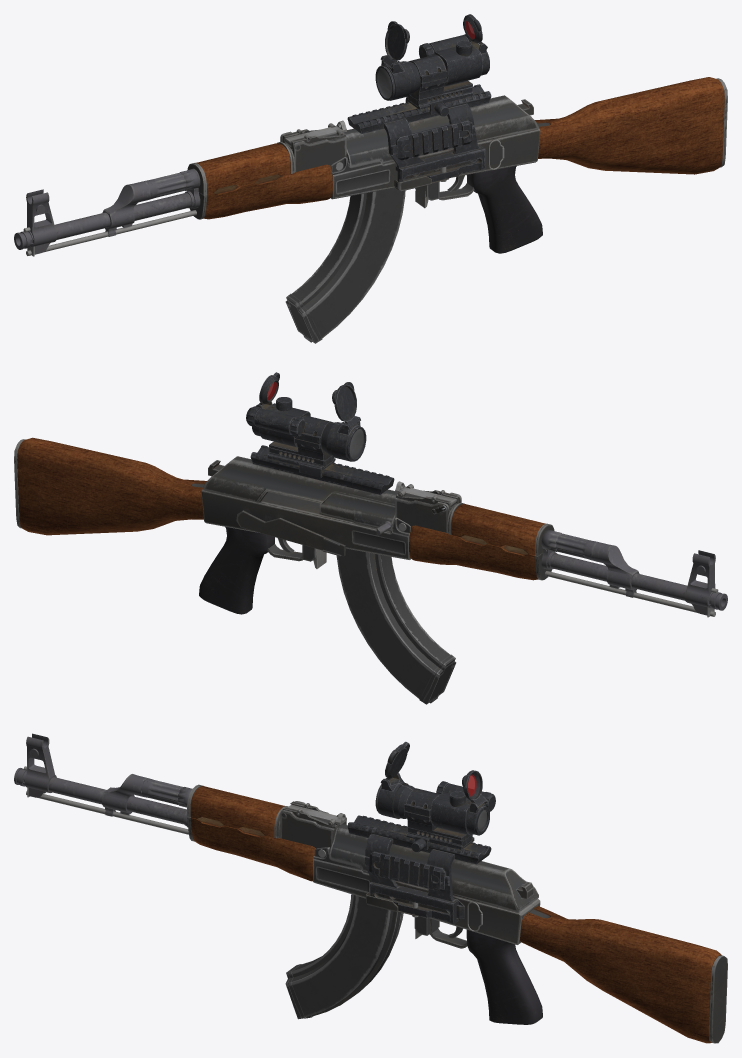
Rendered from ak47_scope_light.glb.
3 renders of one model, top to bottom at view 1: azimuth 30°, elevation 25°; view 2: azimuth 150°, elevation 25°; view 3: azimuth 330°, elevation 25°, orthographic.
Visible parts, largest first — view 1: handgrip_low_Material #37_0; view 2: handgrip_low_Material #37_0; view 3: handgrip_low_Material #37_0.
Part boxes in pixels (x1,y1,x2,y2): handgrip_low_Material #37_0: (14,14,727,343); handgrip_low_Material #37_0: (14,372,727,704); handgrip_low_Material #37_0: (14,733,727,1043).
Bounding box in the file's own units: 970 × 386 × 86.58.
2 materials, 2 textured.
